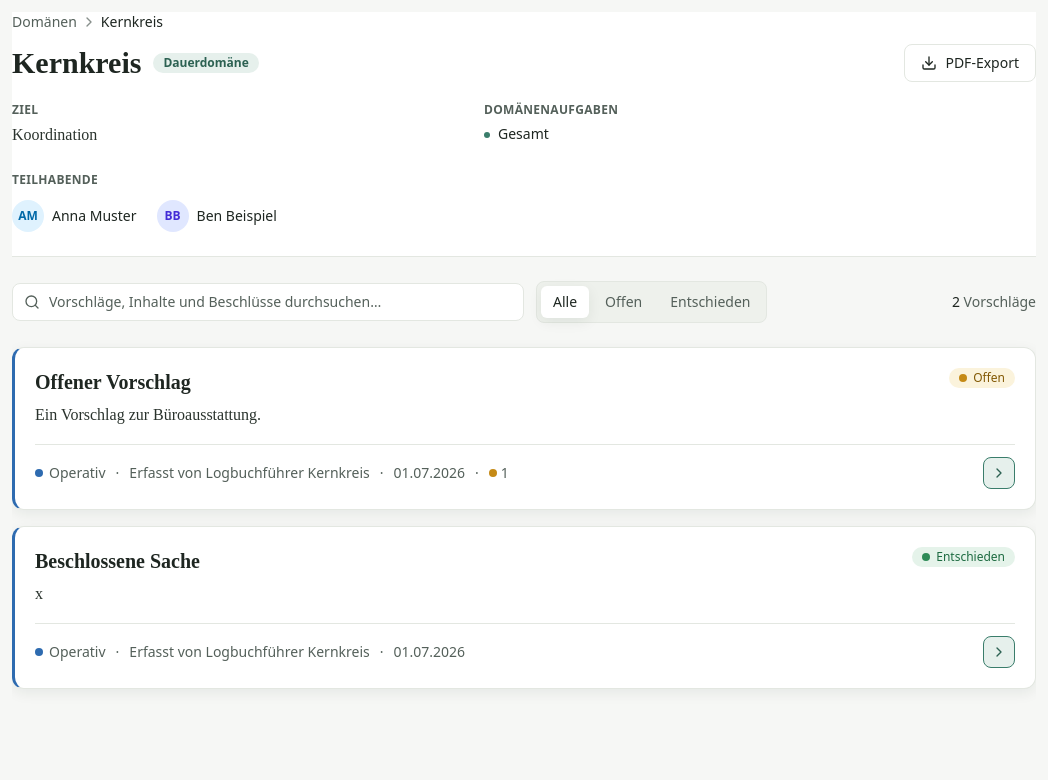
Test: DomaenenLog › Status-Filter zeigt nur den gewählten Status
Expected: the heading "Offener Vorschlag" is shown, [35,368,191,396]
Click the button "Entschieden" at (710, 302), box [658,286,762,318]
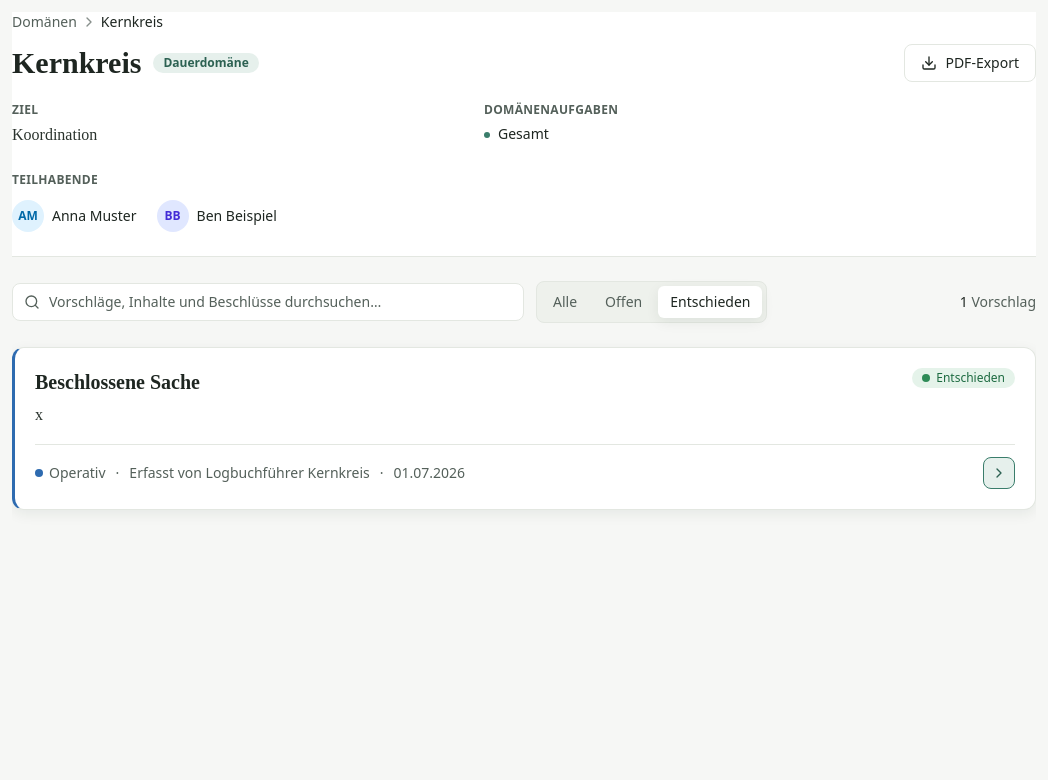
Expected: the heading "Beschlossene Sache" is shown, [35,368,200,396]
Now the button "Offener Vorschlag" is gone
